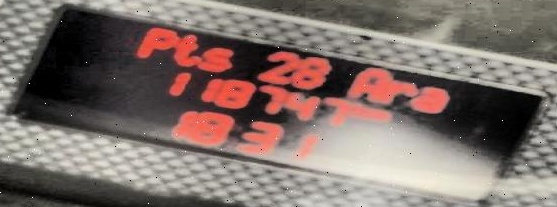1: (293, 130, 320, 161), (169, 108, 195, 140), (166, 69, 186, 100), (200, 75, 219, 102)
2: (256, 49, 296, 84)
3: (237, 118, 280, 153)
4: (286, 90, 318, 118)
7: (259, 83, 284, 112), (327, 94, 351, 124)
8: (195, 109, 232, 144), (296, 53, 331, 88), (218, 77, 255, 108)
X: (134, 24, 175, 57), (345, 66, 384, 99), (200, 44, 233, 72), (415, 84, 446, 113), (177, 33, 201, 68), (384, 79, 411, 106), (348, 101, 370, 119), (368, 108, 388, 124)
